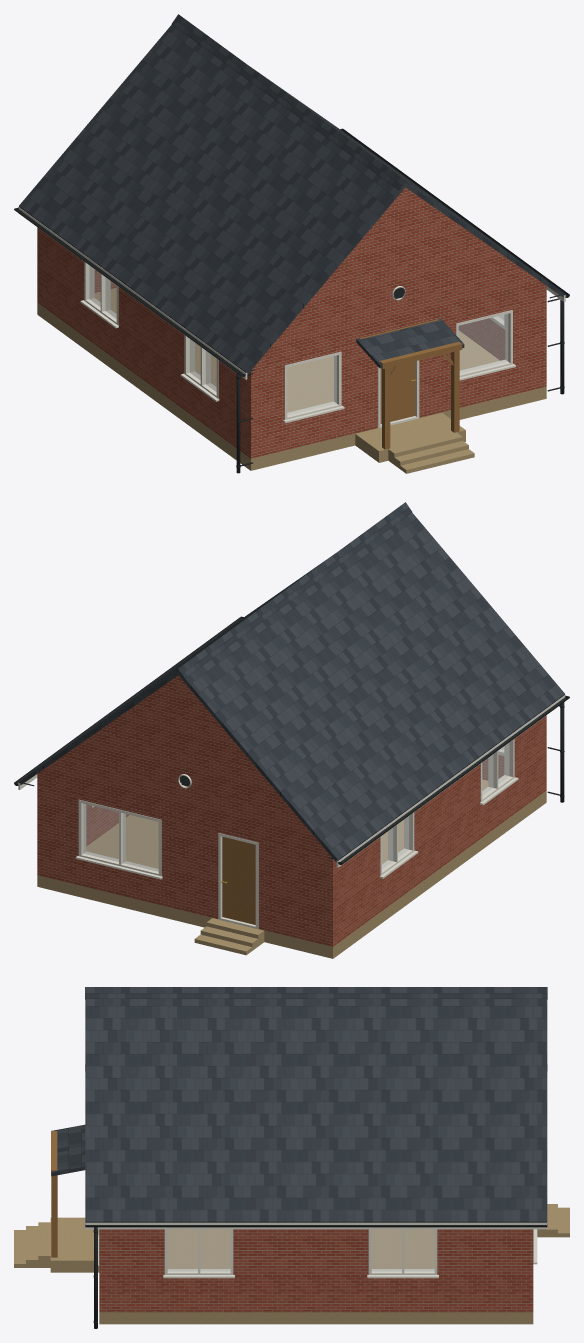
File: cottage_far.glb
The picture shows the model from 3 angles, top to bottom: view 1: azimuth 30°, elevation 25°; view 2: azimuth 150°, elevation 25°; view 3: azimuth 270°, elevation 25°; orthographic projection.
Parts seen in each view (by area): view 1: Main roof closed pitched roof slab, Main house hollow wall shell with actual openings, Grounded continuous foundation and floor, Main roof finite ridge cap, Porch closed pitched canopy, Main house Front left window finite glazing, Main house Front right window finite glazing, Porch grounded landing, Main house Front entrance closed finite door leaf, Main house Front left window finite seated frame, Main house left window 0 finite seated frame, Main house left window 1 finite seated frame (+13 smaller); view 2: Main roof closed pitched roof slab, Main house hollow wall shell with actual openings, Grounded continuous foundation and floor, Main house Rear picture window finite glazing, Main roof finite ridge cap, Main house Rear garden door closed finite door leaf, Main house Rear picture window finite seated frame, Main house left window 0 finite seated frame, Eaves -1 open finite gutter with outlet, Main house left window 1 finite seated frame, Main house Rear garden door finite seated frame, Main roof seated eave fascia -1 (+6 smaller); view 3: Main roof closed pitched roof slab, Main house hollow wall shell with actual openings, Grounded continuous foundation and floor, Main roof finite ridge cap, Main roof seated eave fascia 1, Main house right window 0 finite glazing, Main house right window 1 finite glazing, Porch grounded landing, Eaves 1 open finite gutter with outlet, Porch closed pitched canopy, Main house right window 0 finite seated frame, Main house right window 1 finite seated frame (+4 smaller).
Boxes of the visible parts, x1,y1,x2,y2 form: Main roof closed pitched roof slab: (19, 24, 564, 374); Main house hollow wall shell with actual openings: (37, 187, 546, 458); Grounded continuous foundation and floor: (37, 288, 546, 470); Main roof finite ridge cap: (172, 14, 412, 190); Porch closed pitched canopy: (356, 318, 464, 368); Main house Front left window finite glazing: (287, 355, 336, 415); Main house Front right window finite glazing: (459, 314, 507, 373); Porch grounded landing: (355, 413, 465, 462); Main house Front entrance closed finite door leaf: (380, 361, 415, 423); Main house Front left window finite seated frame: (284, 351, 341, 419); Main house left window 0 finite seated frame: (184, 335, 218, 398); Main house left window 1 finite seated frame: (84, 262, 118, 324); Main roof closed pitched roof slab: (19, 512, 564, 862); Main house hollow wall shell with actual openings: (37, 675, 546, 946); Grounded continuous foundation and floor: (37, 779, 546, 958); Main house Rear picture window finite glazing: (83, 804, 158, 871); Main roof finite ridge cap: (171, 502, 411, 678); Main house Rear garden door closed finite door leaf: (222, 836, 255, 924); Main house Rear picture window finite seated frame: (78, 799, 161, 876); Main house left window 0 finite seated frame: (480, 739, 514, 801); Eaves -1 open finite gutter with outlet: (340, 697, 569, 863); Main house left window 1 finite seated frame: (380, 812, 414, 875); Main house Rear garden door finite seated frame: (218, 833, 258, 929); Main roof seated eave fascia -1: (336, 694, 565, 867); Main roof closed pitched roof slab: (85, 999, 547, 1222); Main house hollow wall shell with actual openings: (99, 1229, 533, 1312); Grounded continuous foundation and floor: (99, 1229, 533, 1324); Main roof finite ridge cap: (85, 987, 547, 999); Main roof seated eave fascia 1: (85, 1222, 547, 1229); Main house right window 0 finite glazing: (168, 1229, 230, 1271); Main house right window 1 finite glazing: (372, 1229, 434, 1271); Porch grounded landing: (50, 1217, 99, 1272); Eaves 1 open finite gutter with outlet: (85, 1225, 546, 1227); Porch closed pitched canopy: (51, 1124, 85, 1176); Main house right window 0 finite seated frame: (164, 1229, 233, 1274); Main house right window 1 finite seated frame: (368, 1229, 437, 1274).
Bounding box in the file's own units: 8.9 × 6.71 × 12.81.
8 materials, 7 textured.
